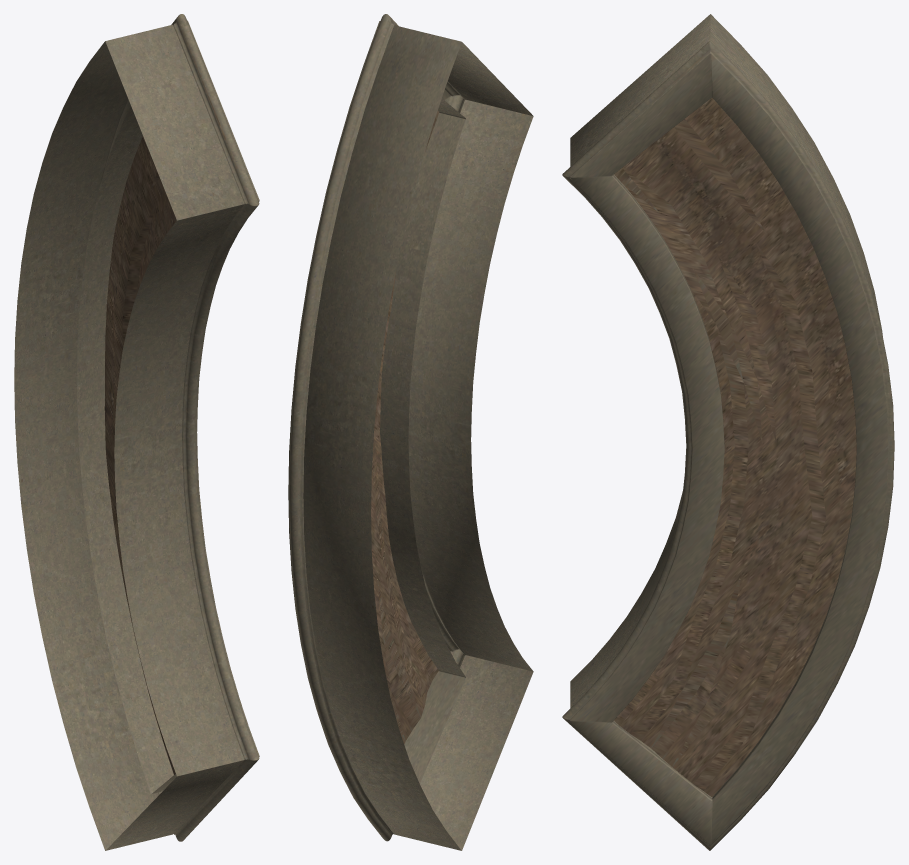
Rendered from cP_GardenIslands01_Curve.dae.
3 views of the same model, side by side, from view 1: azimuth 30°, elevation 25°; view 2: azimuth 150°, elevation 25°; view 3: azimuth 270°, elevation 25° (orthographic). The views are drawn at different scales.
Parts seen in each view (by area): view 1: cP_GardenIslands01_Curve.001; view 2: cP_GardenIslands01_Curve.001; view 3: cP_GardenIslands01_Curve.001.
Boxes of the visible parts, x1,y1,x2,y2 form: cP_GardenIslands01_Curve.001: [14, 14, 259, 850]; cP_GardenIslands01_Curve.001: [288, 14, 533, 850]; cP_GardenIslands01_Curve.001: [562, 14, 894, 850].
Size of the model in its own units: 0.948 by 3.37 by 9.05.
